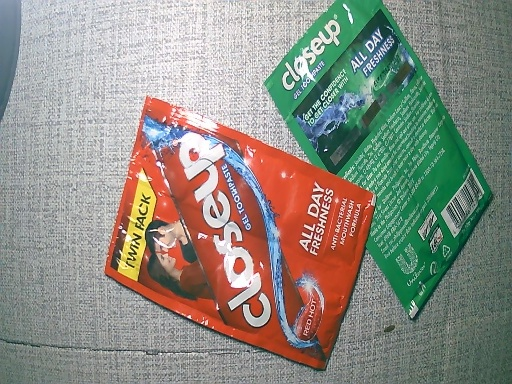plastic: (266, 1, 489, 332), (109, 92, 368, 376)
